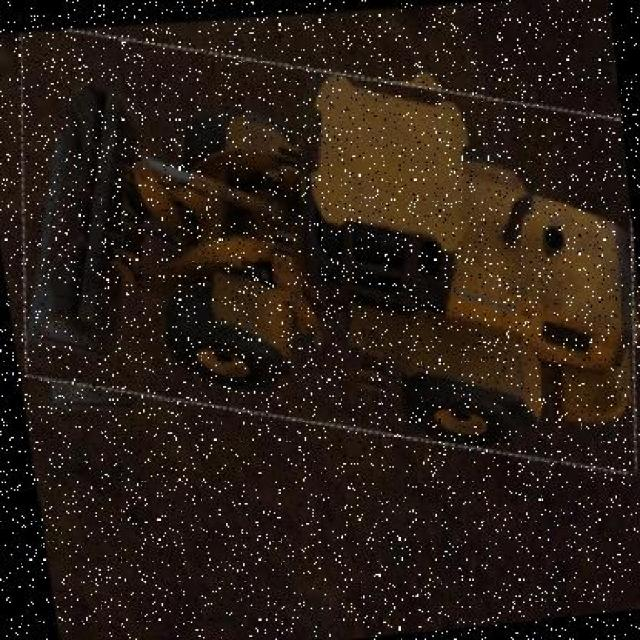buldozerpayloadergrader: (0, 12, 640, 503)
